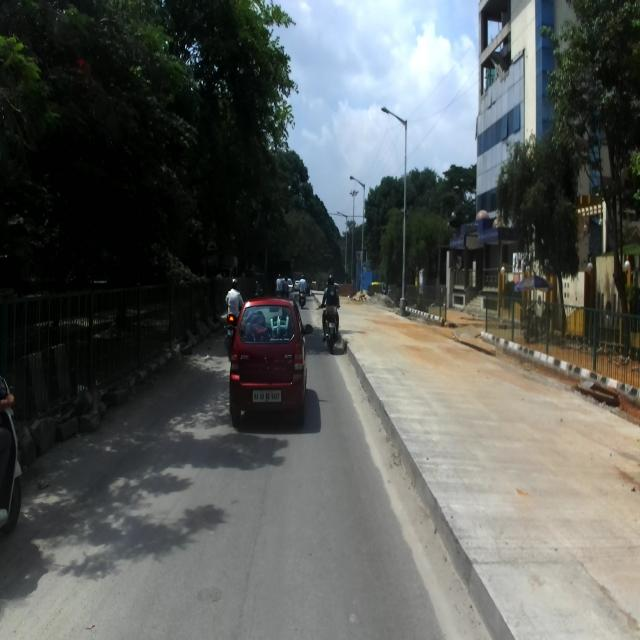Car_Maruti-Suzuki: (228, 295, 314, 430)
